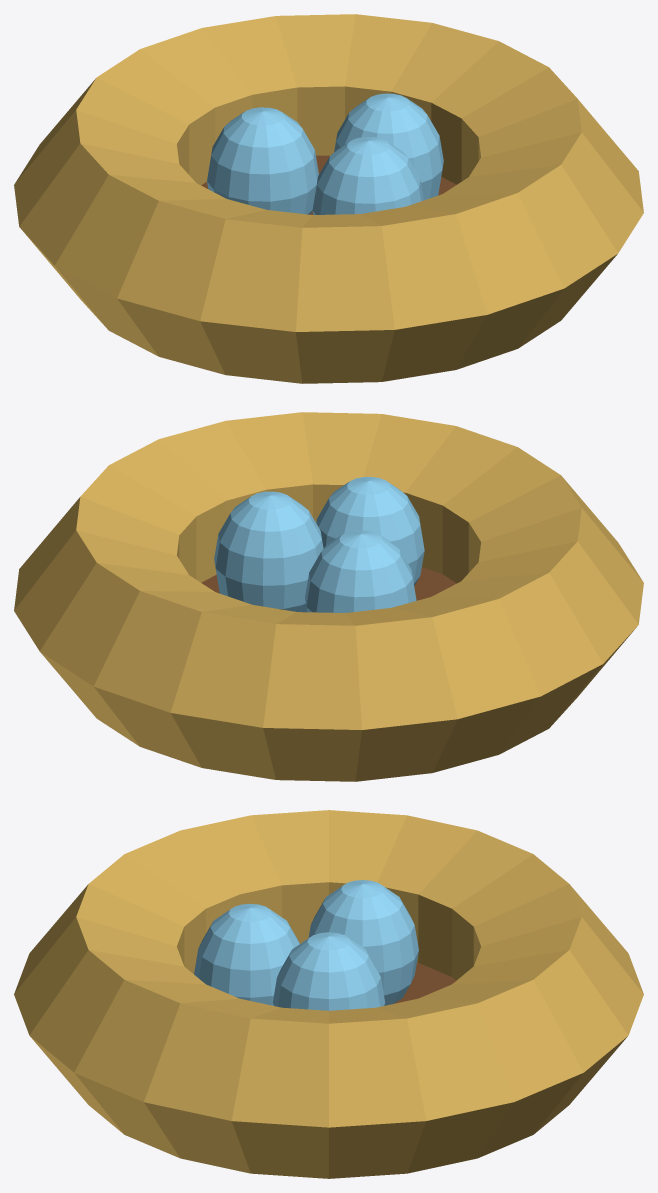
File: bird-nest-lod0.glb
The picture shows the model from 3 angles, top to bottom: view 1: azimuth 30°, elevation 25°; view 2: azimuth 150°, elevation 25°; view 3: azimuth 270°, elevation 25°; orthographic projection.
Visible parts, largest first — view 1: bird-nest; view 2: bird-nest; view 3: bird-nest.
Part boxes in pixels (x1=…): bird-nest: x1=14, y1=14, x2=643, y2=383; bird-nest: x1=14, y1=412, x2=643, y2=781; bird-nest: x1=14, y1=810, x2=643, y2=1178.
Bounding box in the file's own units: 0.56 × 0.165 × 0.56.
